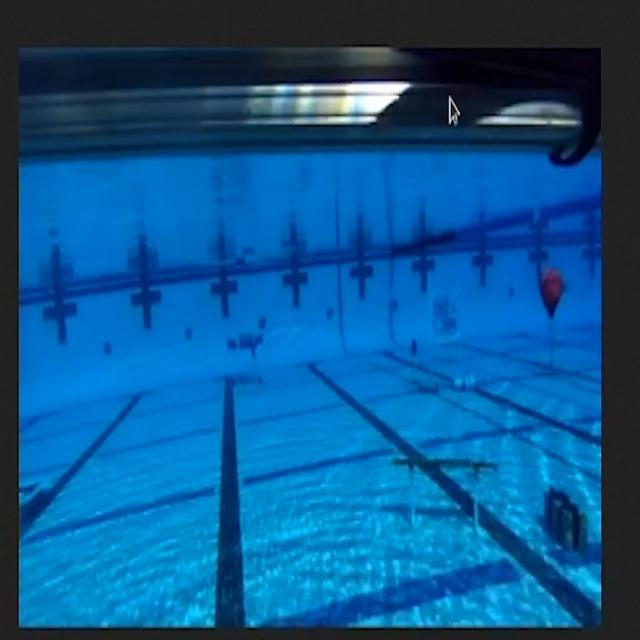Buoy: (533, 261, 571, 326)
